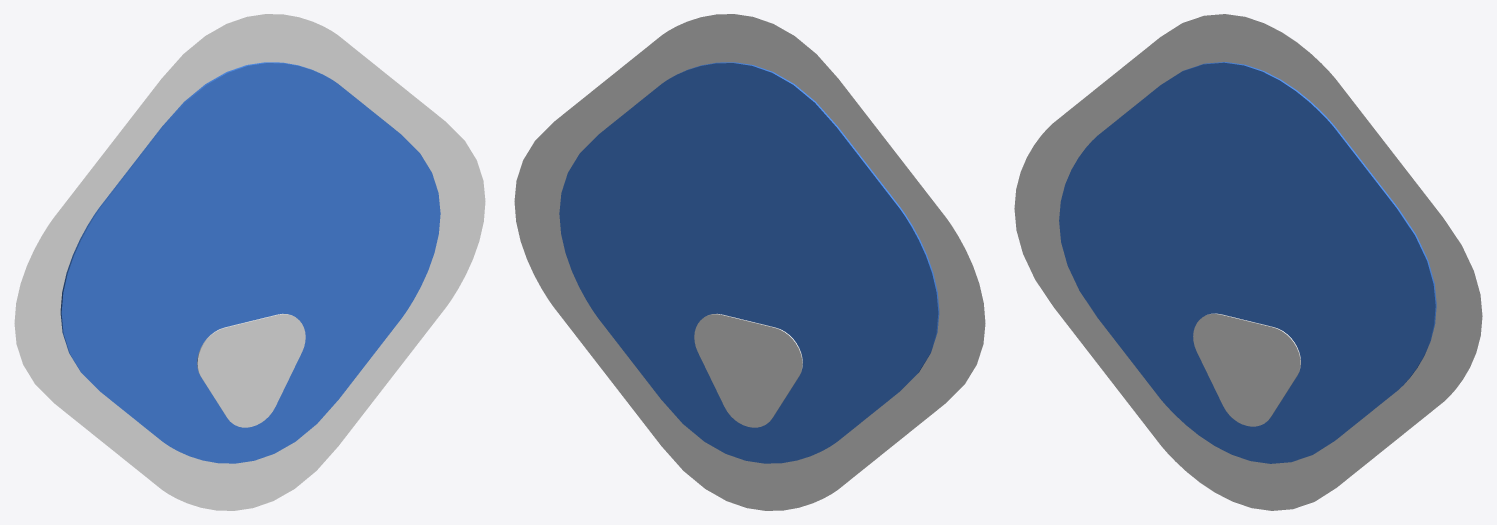
Rendered from check_point.glb.
3 views of the same model, side by side, from view 1: azimuth 30°, elevation 25°; view 2: azimuth 150°, elevation 25°; view 3: azimuth 330°, elevation 25° (orthographic).
Parts seen in each view (by area): view 1: Curve.001, Curve, Curve.002; view 2: Curve.001, Curve, Curve.002; view 3: Curve.001, Curve, Curve.002.
Boxes of the visible parts, bbox=[...] form: Curve.001: bbox=[60, 62, 440, 463]; Curve: bbox=[14, 14, 485, 510]; Curve.002: bbox=[197, 313, 305, 427]; Curve.001: bbox=[559, 62, 939, 463]; Curve: bbox=[514, 14, 985, 510]; Curve.002: bbox=[694, 313, 802, 427]; Curve.001: bbox=[1059, 62, 1436, 463]; Curve: bbox=[1014, 14, 1482, 510]; Curve.002: bbox=[1193, 313, 1300, 426].
Bounding box in the file's own units: 0.9619 × 0.9617 × 0.012.
